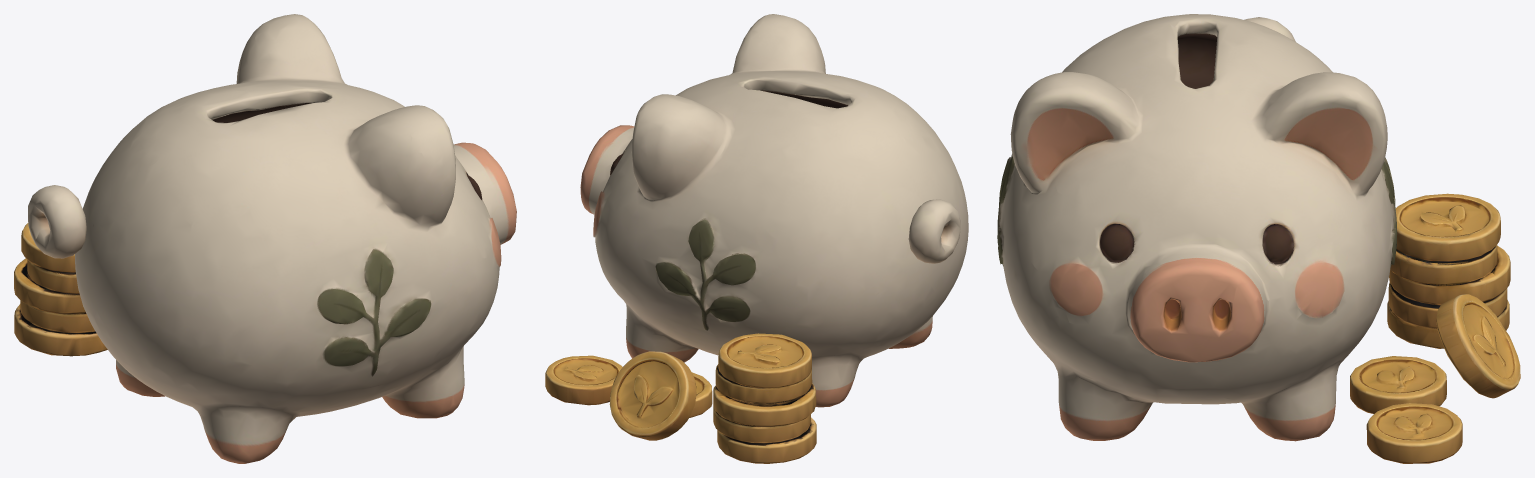
The model's file is finance-piggy-bank.glb.
3 renders of one model, left to right at view 1: azimuth 30°, elevation 25°; view 2: azimuth 150°, elevation 25°; view 3: azimuth 270°, elevation 25°, orthographic. The views are drawn at different scales.
Parts seen in each view (by area): view 1: tripo_node_76372e23-b5bb-493a-a663-255461d072b1; view 2: tripo_node_76372e23-b5bb-493a-a663-255461d072b1; view 3: tripo_node_76372e23-b5bb-493a-a663-255461d072b1.
Part boxes in pixels (x1,y1,x2,y2): tripo_node_76372e23-b5bb-493a-a663-255461d072b1: [14, 14, 516, 463]; tripo_node_76372e23-b5bb-493a-a663-255461d072b1: [545, 14, 968, 463]; tripo_node_76372e23-b5bb-493a-a663-255461d072b1: [997, 14, 1520, 463].
Bounding box in the file's own units: 1 × 0.7096 × 0.9952.
Materials: 1 (1 with a texture image).
